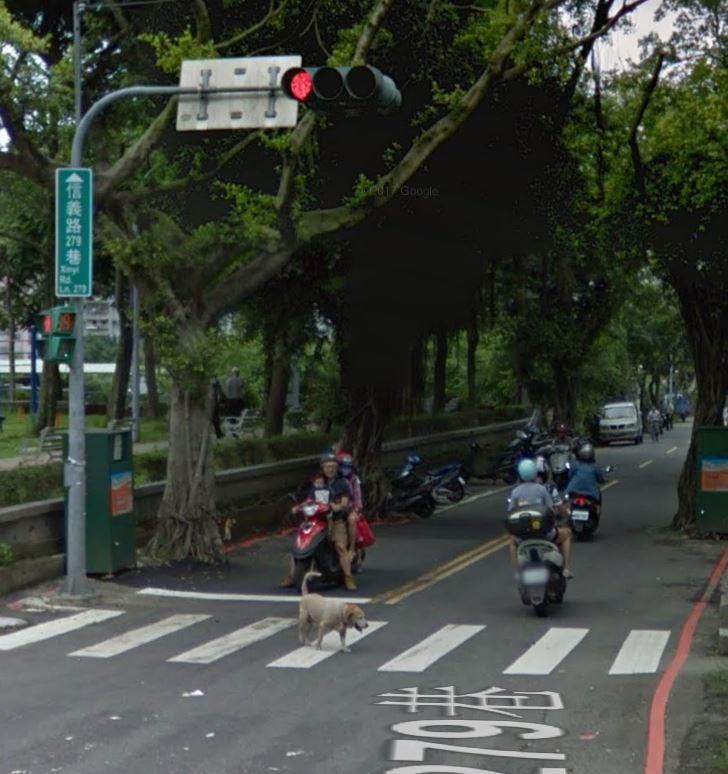red_traffic_light: (278, 64, 389, 104)
